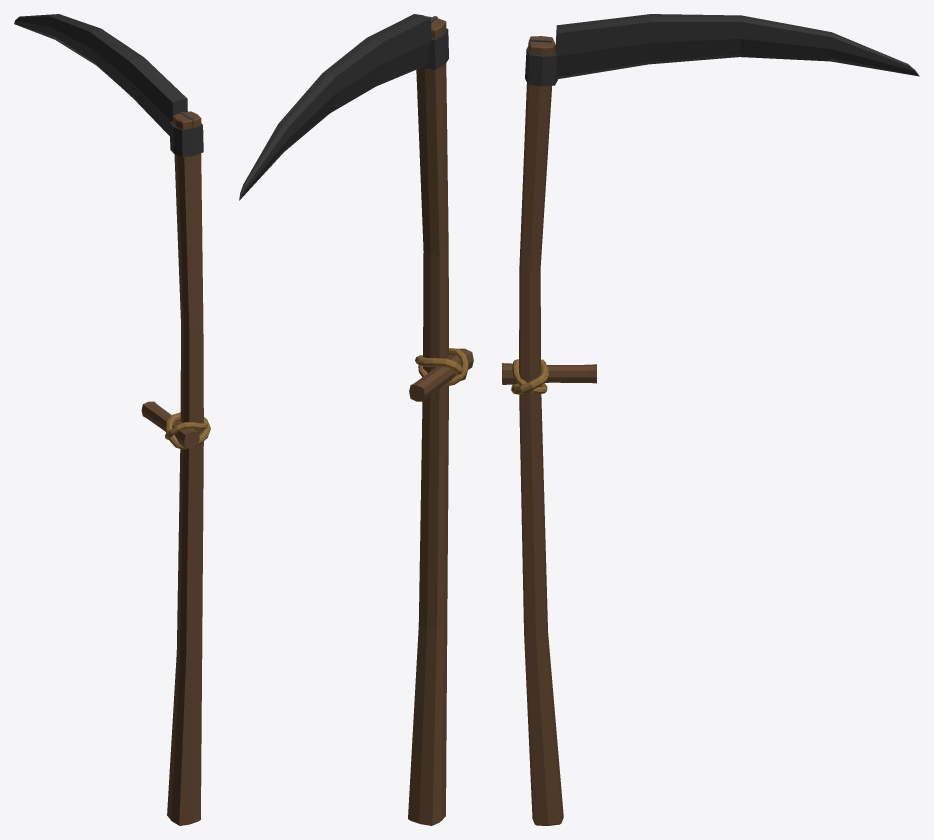
File: scythce.glb
The picture shows the model from 3 angles, left to right: view 1: azimuth 30°, elevation 25°; view 2: azimuth 150°, elevation 25°; view 3: azimuth 270°, elevation 25°; orthographic projection. The views are drawn at different scales.
Visible parts, largest first — view 1: scythce; view 2: scythce; view 3: scythce.
Boxes of the visible parts, <box> form: scythce: <box>14,14,210,825</box>; scythce: <box>239,14,473,825</box>; scythce: <box>502,14,919,825</box>.
Bounding box in the file's own units: 0.1501 × 2.43 × 1.15.
Materials: 1 (1 with a texture image).
